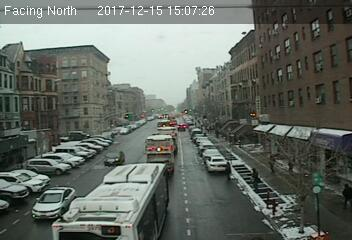bus: (48, 161, 167, 240)
car: (30, 185, 74, 219), (204, 156, 229, 172), (104, 151, 124, 164), (177, 123, 186, 131)
pedestrian: (250, 165, 259, 192)
truck: (144, 135, 174, 174)
